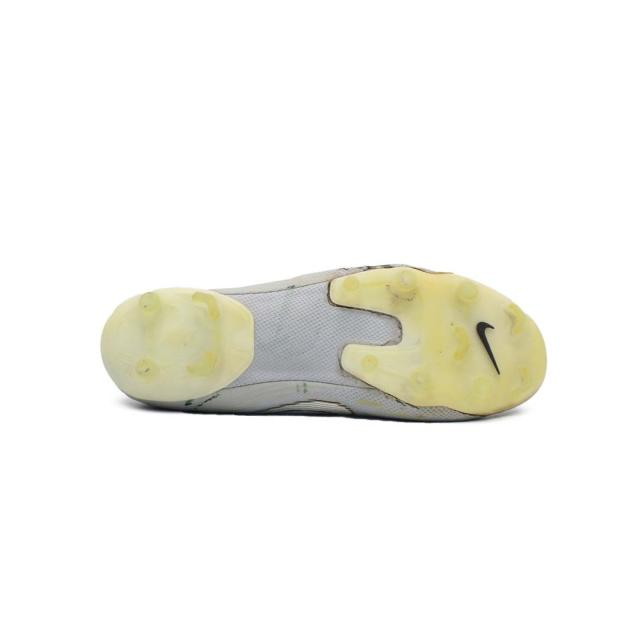outersole: (102, 266, 549, 418)
